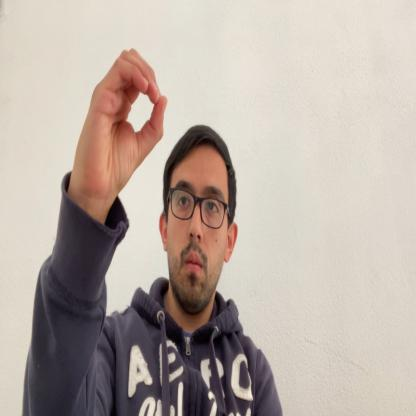O: (77, 45, 168, 196)
